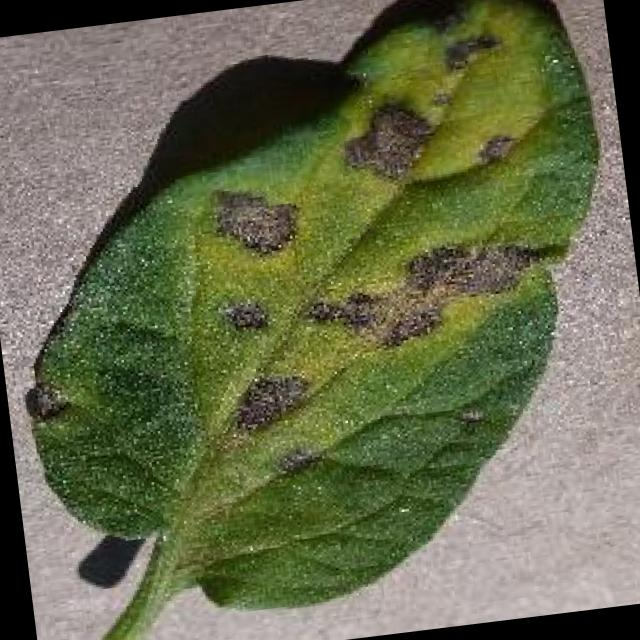Tomato_Early_Blight: (127, 0, 639, 446)
